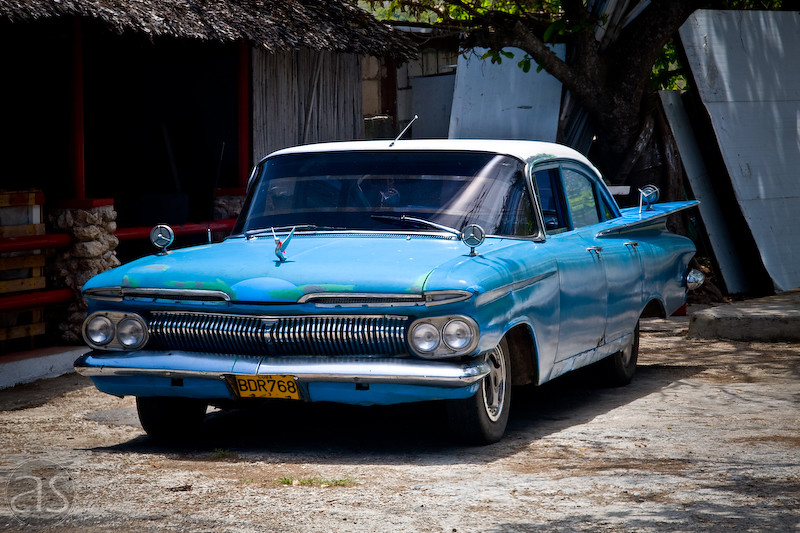car: (62, 105, 719, 447)
